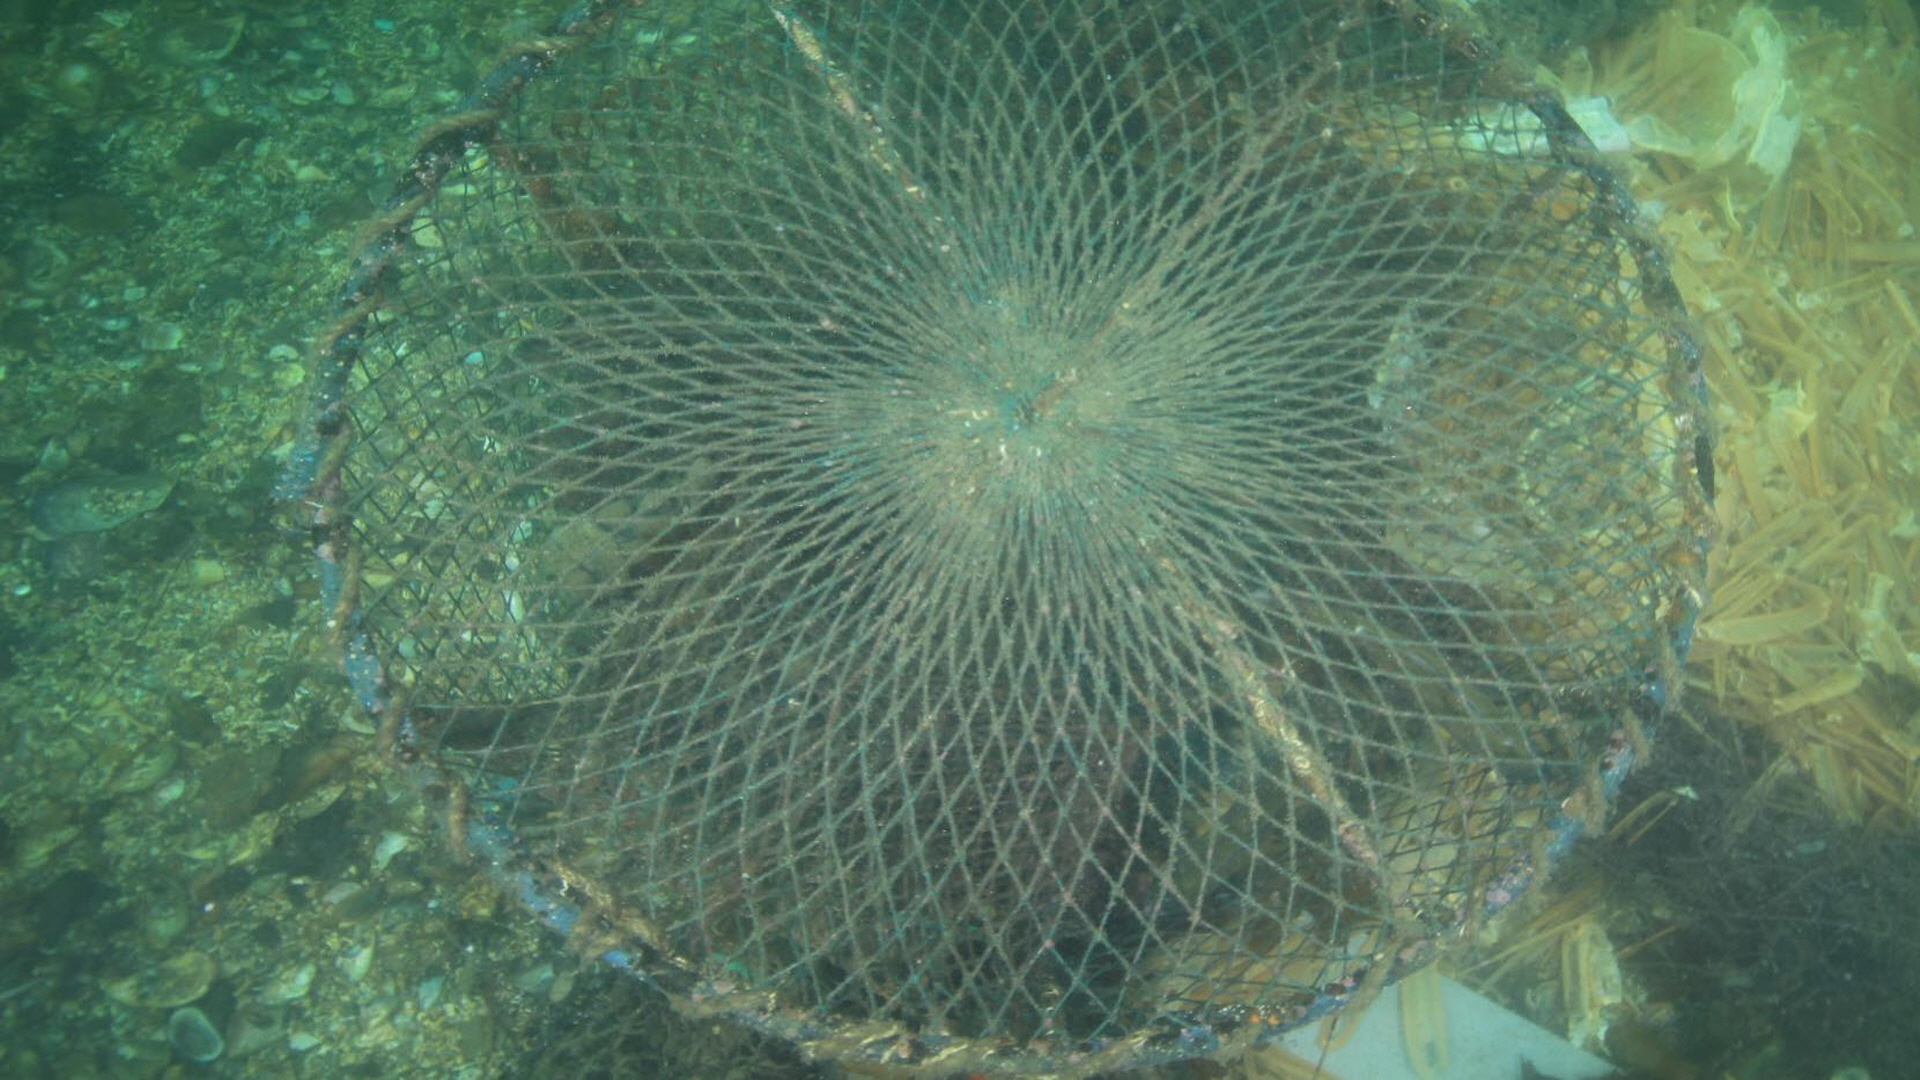circular fish trap: (310, 0, 1713, 1077)
